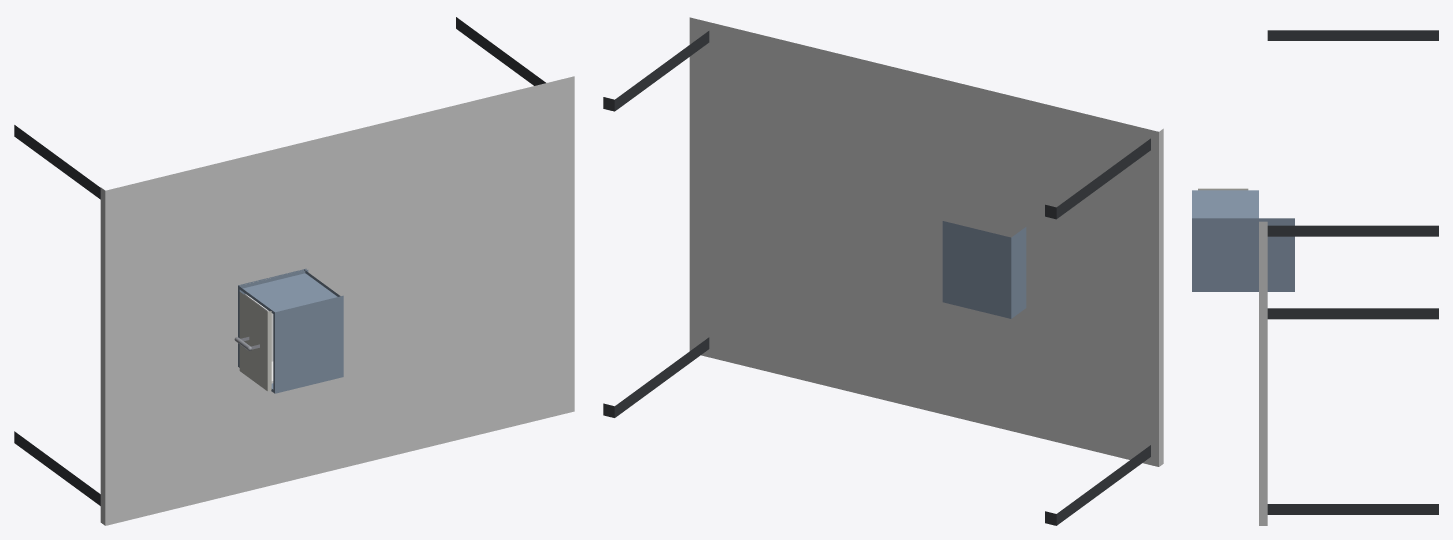
Rendered from t2_7ebec8b653.glb.
3 renders of one model, left to right at view 1: azimuth 30°, elevation 25°; view 2: azimuth 150°, elevation 25°; view 3: azimuth 270°, elevation 25°, orthographic. The views are drawn at different scales.
Visible parts, largest first — view 1: s0, s1, s2; view 2: s0, s1; view 3: s0, s1.
Part boxes in pixels (x1=…): s0: x1=14, y1=17, x2=574, y2=525; s1: x1=238, y1=268, x2=343, y2=393; s2: x1=234, y1=292, x2=273, y2=391; s0: x1=603, y1=17, x2=1163, y2=525; s1: x1=942, y1=221, x2=1026, y2=318; s0: x1=1259, y1=30, x2=1438, y2=525; s1: x1=1192, y1=190, x2=1294, y2=291.
Bounding box in the file's own units: 2.05 × 1.4 × 1.03.
